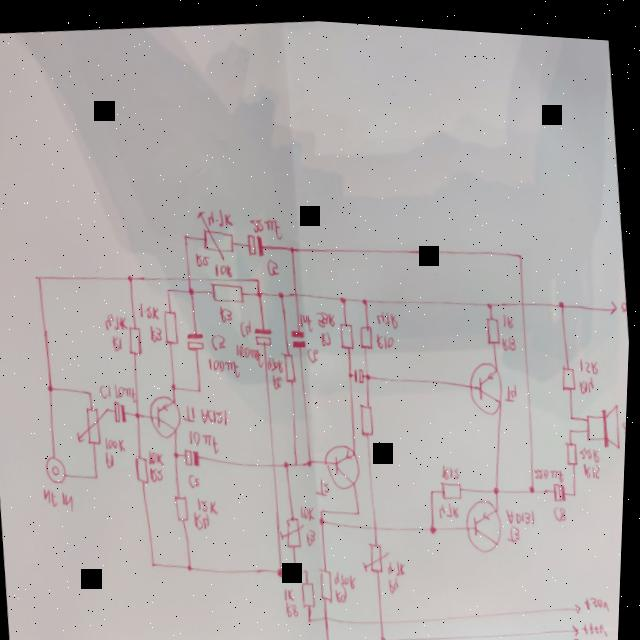capacitor: (184, 327, 209, 352), (287, 322, 310, 349), (253, 319, 276, 344), (245, 228, 266, 255), (112, 396, 129, 422), (184, 443, 203, 466), (552, 472, 569, 495), (354, 363, 367, 378)
crossover: (291, 285, 299, 295), (519, 291, 527, 301), (375, 517, 383, 527), (272, 455, 280, 465), (380, 611, 388, 620), (325, 608, 333, 617), (186, 271, 193, 280)
junction: (277, 561, 289, 575), (254, 285, 264, 297), (360, 290, 370, 302), (430, 517, 440, 529), (172, 447, 182, 458), (293, 561, 303, 572), (339, 289, 348, 301), (187, 283, 196, 294), (135, 408, 144, 419), (494, 478, 503, 489), (319, 510, 328, 521), (170, 379, 179, 390), (529, 476, 538, 487), (307, 452, 315, 464), (48, 382, 56, 393), (126, 270, 134, 281), (277, 285, 285, 296), (558, 292, 566, 302), (516, 244, 524, 254), (486, 294, 494, 303), (188, 560, 196, 569), (284, 455, 292, 464), (182, 230, 190, 239), (35, 273, 43, 282), (288, 240, 296, 249), (165, 284, 173, 293), (382, 629, 390, 638), (308, 611, 316, 620), (294, 455, 302, 464), (87, 387, 94, 397), (254, 272, 261, 282), (568, 417, 575, 427), (94, 471, 101, 480), (569, 405, 576, 414), (357, 503, 364, 512), (197, 383, 204, 392), (305, 562, 312, 571), (430, 481, 437, 490), (366, 366, 373, 375), (321, 501, 328, 510), (152, 558, 159, 566), (328, 632, 335, 640), (573, 482, 580, 490), (348, 365, 355, 373)
resistor: (194, 203, 237, 260), (74, 402, 113, 446), (362, 533, 395, 570), (210, 275, 246, 304), (280, 510, 308, 545), (161, 304, 181, 344), (441, 469, 468, 496), (359, 396, 376, 432), (126, 322, 145, 354), (320, 563, 337, 598), (283, 346, 299, 380), (135, 451, 152, 483), (484, 308, 502, 338), (174, 490, 192, 520), (560, 355, 578, 385), (339, 315, 356, 345), (302, 576, 319, 606), (358, 317, 375, 345), (565, 432, 581, 460)
terminal: (43, 450, 73, 485), (608, 289, 619, 307), (573, 615, 582, 633), (577, 593, 585, 606)
text: (42, 482, 79, 515), (189, 423, 223, 453), (247, 209, 283, 236), (234, 336, 265, 365), (207, 351, 242, 376), (583, 583, 614, 608), (200, 400, 231, 425), (584, 609, 613, 634), (507, 498, 538, 521), (205, 202, 233, 227), (533, 457, 566, 477), (114, 378, 139, 403), (103, 308, 129, 332), (334, 564, 361, 586), (196, 493, 222, 514), (375, 303, 400, 324), (315, 303, 337, 326), (578, 347, 601, 368), (138, 299, 161, 320), (195, 504, 214, 529), (438, 495, 463, 514), (266, 349, 287, 371), (375, 325, 397, 346), (579, 436, 602, 456), (104, 449, 123, 472), (212, 258, 235, 277), (315, 470, 334, 493), (583, 452, 603, 473), (503, 373, 520, 397), (299, 306, 316, 330), (441, 457, 462, 476), (305, 339, 322, 362), (389, 553, 409, 572), (210, 329, 228, 350), (149, 445, 167, 466), (318, 326, 335, 348), (106, 435, 128, 452), (182, 400, 199, 422), (265, 252, 282, 274), (337, 581, 352, 605), (149, 320, 165, 342), (188, 467, 204, 489), (579, 368, 597, 387), (500, 327, 518, 346), (193, 248, 212, 266), (553, 495, 570, 515), (507, 516, 524, 536), (218, 301, 235, 321), (239, 314, 254, 336), (287, 594, 303, 614), (300, 500, 317, 518), (111, 331, 126, 351), (150, 463, 166, 481), (389, 569, 404, 588), (99, 380, 114, 398), (306, 523, 319, 543), (272, 367, 285, 387), (621, 403, 629, 433), (501, 305, 515, 322), (285, 581, 299, 597), (618, 288, 629, 306)
transistor: (463, 490, 506, 549), (466, 353, 507, 412), (323, 436, 365, 488), (148, 390, 185, 439)
